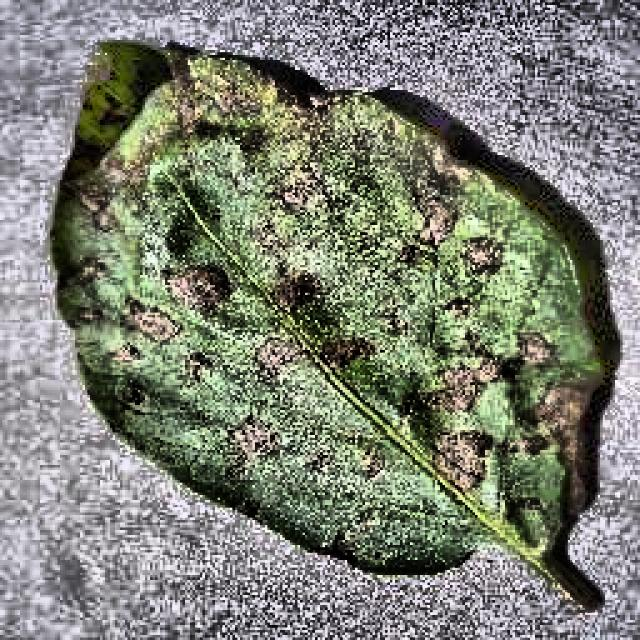Potato_leaf_early_blight: (52, 42, 598, 602)
